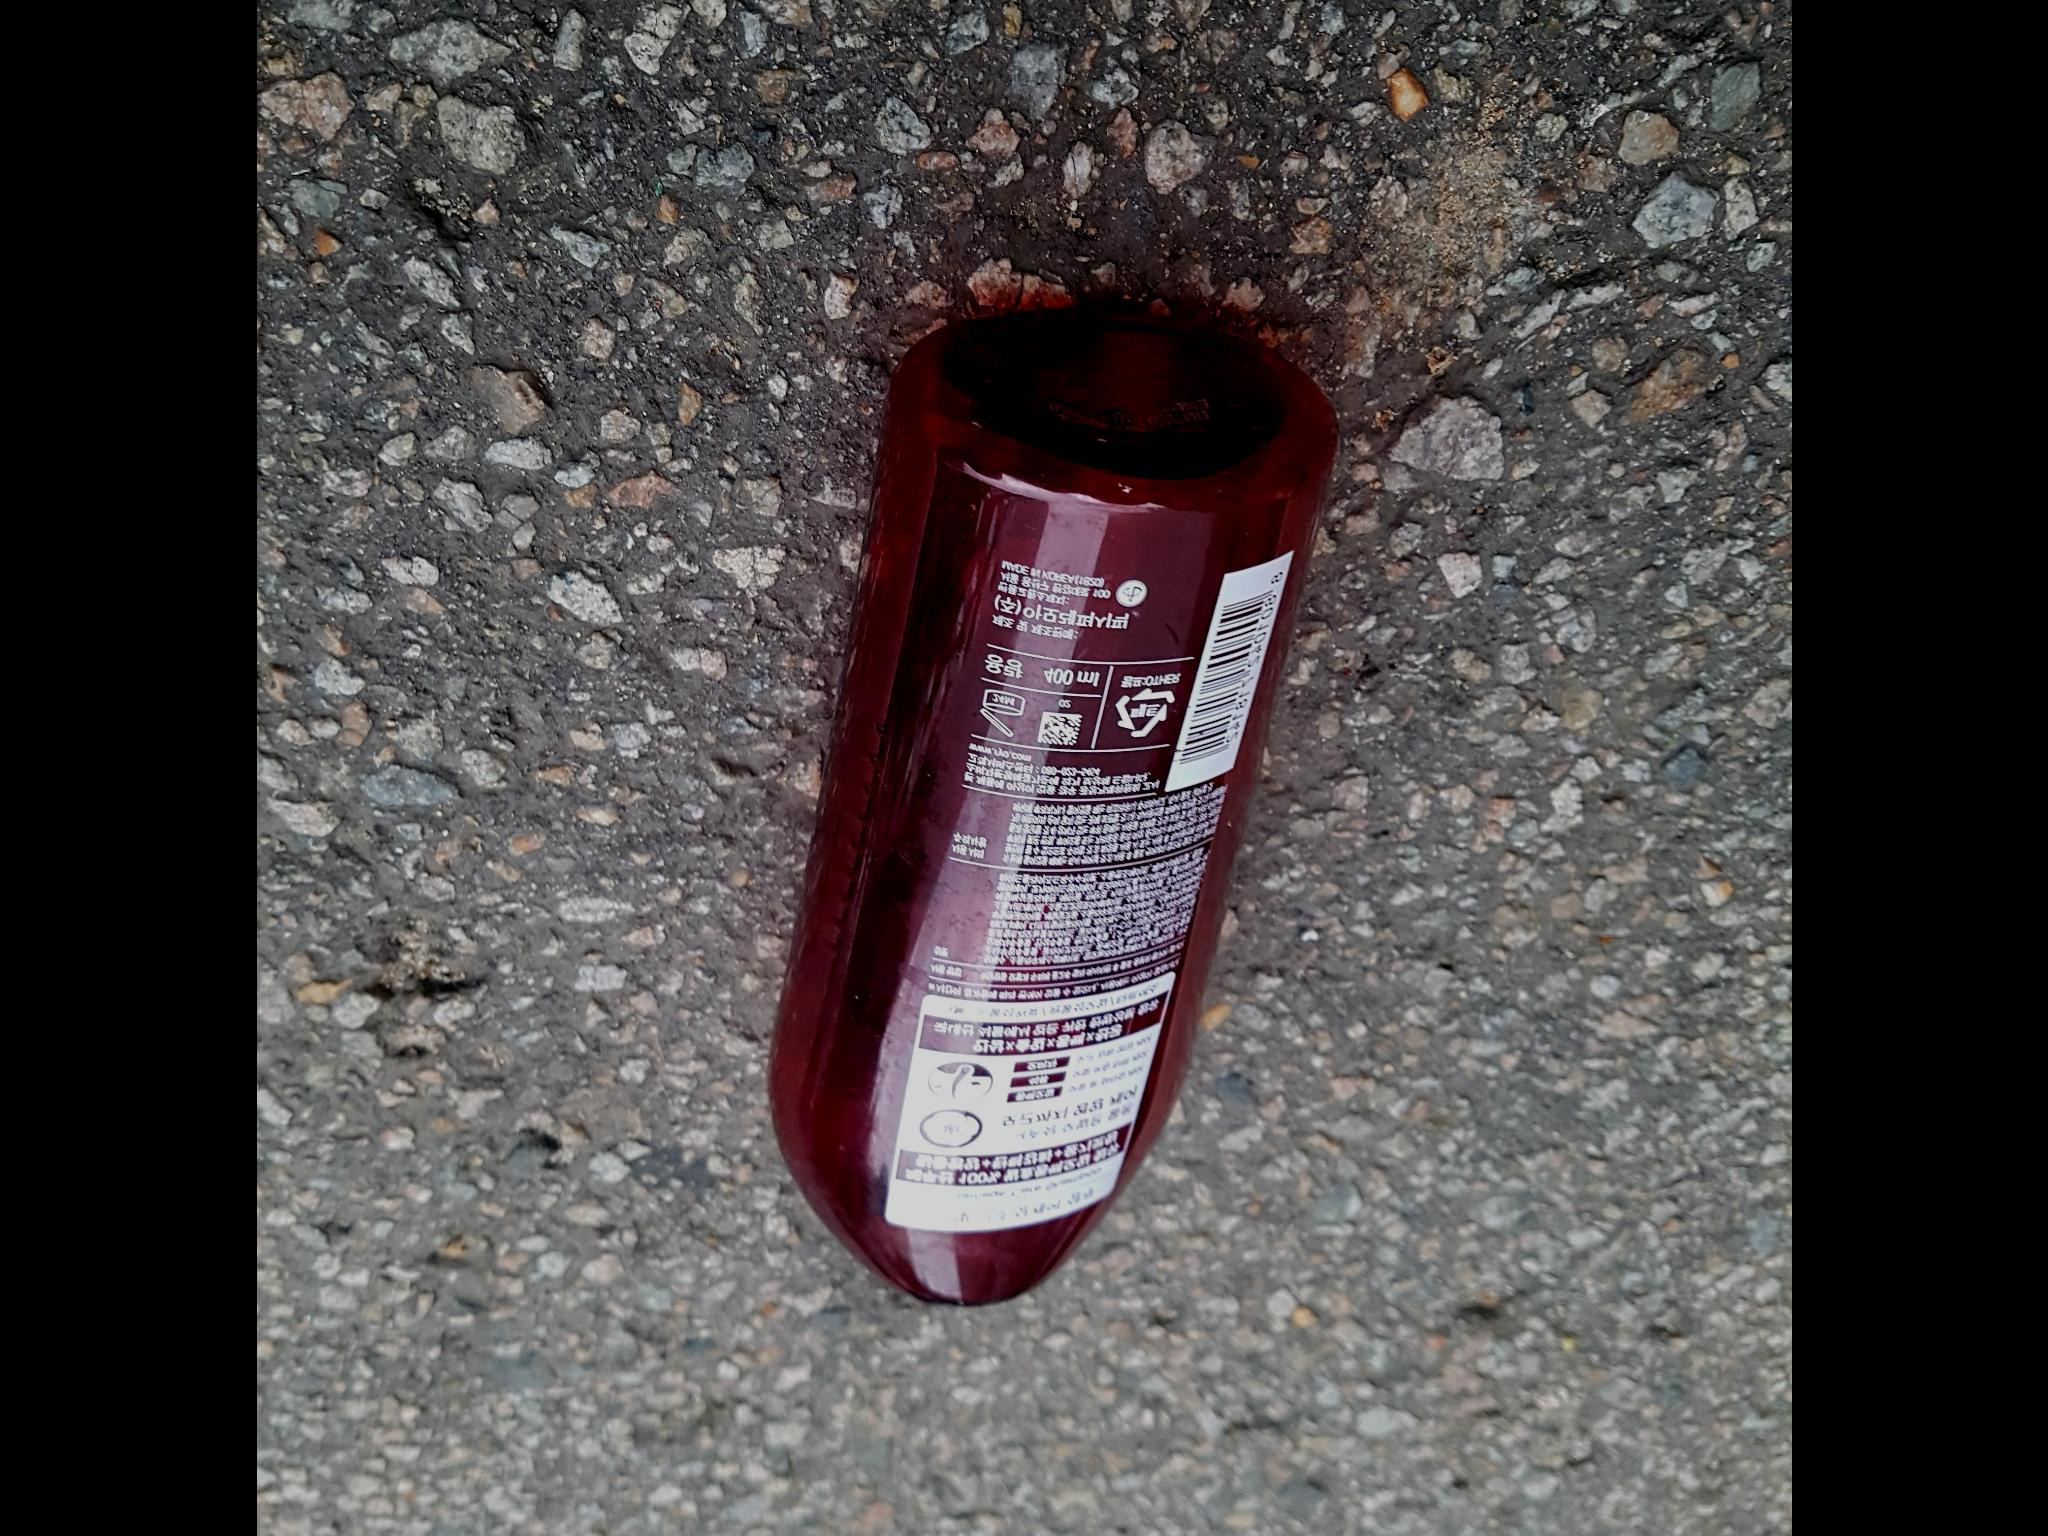bottle: (772, 298, 1471, 1325)
